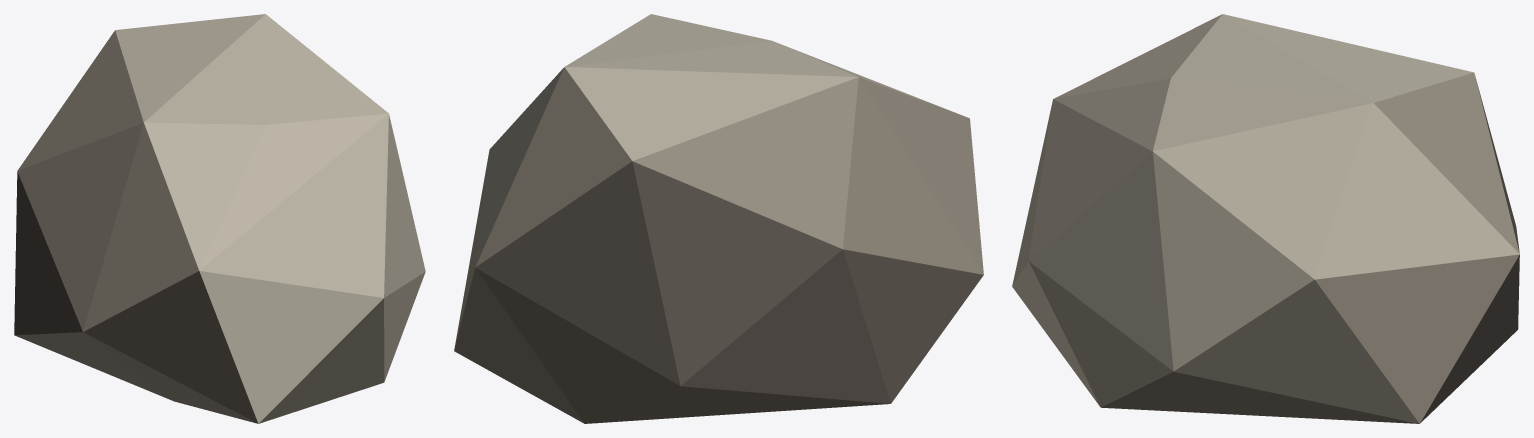
The model's file is stone_mediumA.glb.
3 renders of one model, left to right at view 1: azimuth 30°, elevation 25°; view 2: azimuth 150°, elevation 25°; view 3: azimuth 270°, elevation 25°, orthographic. The views are drawn at different scales.
Parts seen in each view (by area): view 1: stone_mediumA.002; view 2: stone_mediumA.002; view 3: stone_mediumA.002.
Part boxes in pixels (box(x1,y1,x2,y2)): stone_mediumA.002: box(14, 14, 425, 423); stone_mediumA.002: box(454, 14, 983, 423); stone_mediumA.002: box(1012, 14, 1519, 423).
Size of the model in its own units: 0.4631 by 0.3338 by 0.5.
